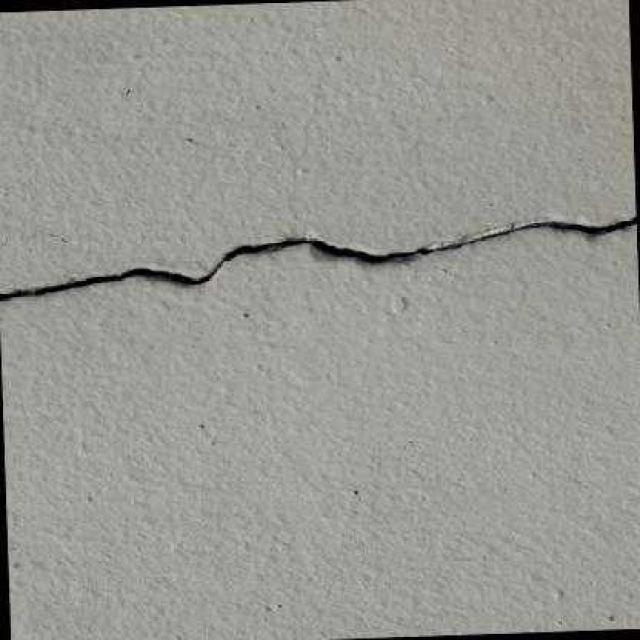D00: (0, 214, 637, 299)
